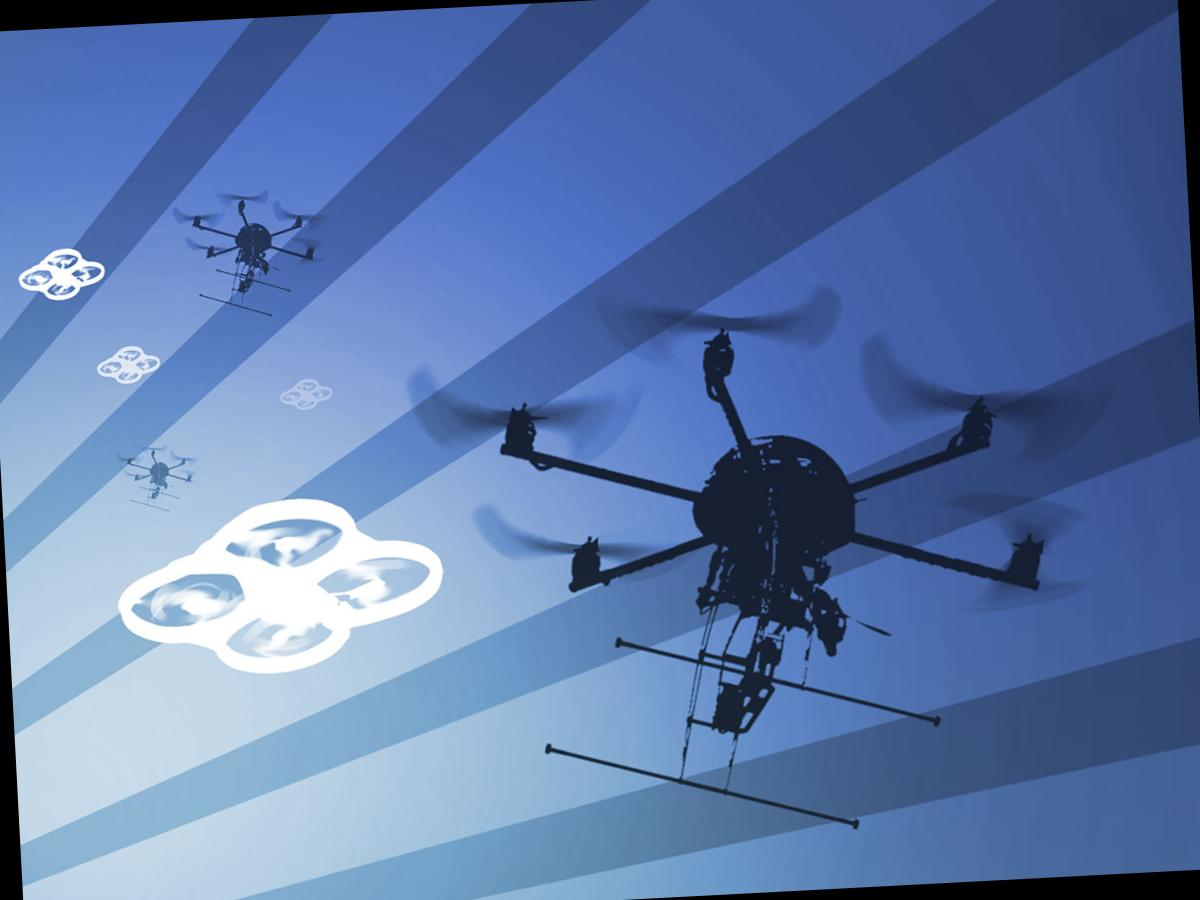drone: (442, 279, 1094, 643), (104, 485, 474, 702), (158, 183, 330, 301), (8, 234, 114, 306), (109, 429, 204, 501), (92, 337, 166, 384), (266, 370, 340, 413)
